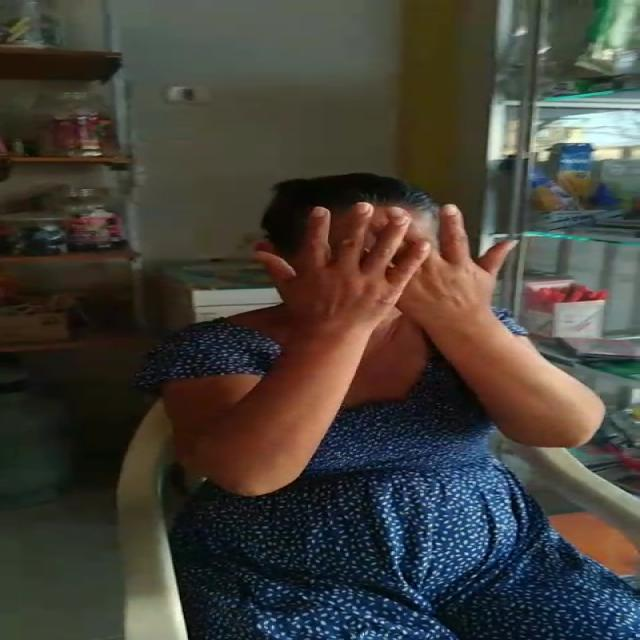7_mano_rostro: (271, 202, 468, 405)
